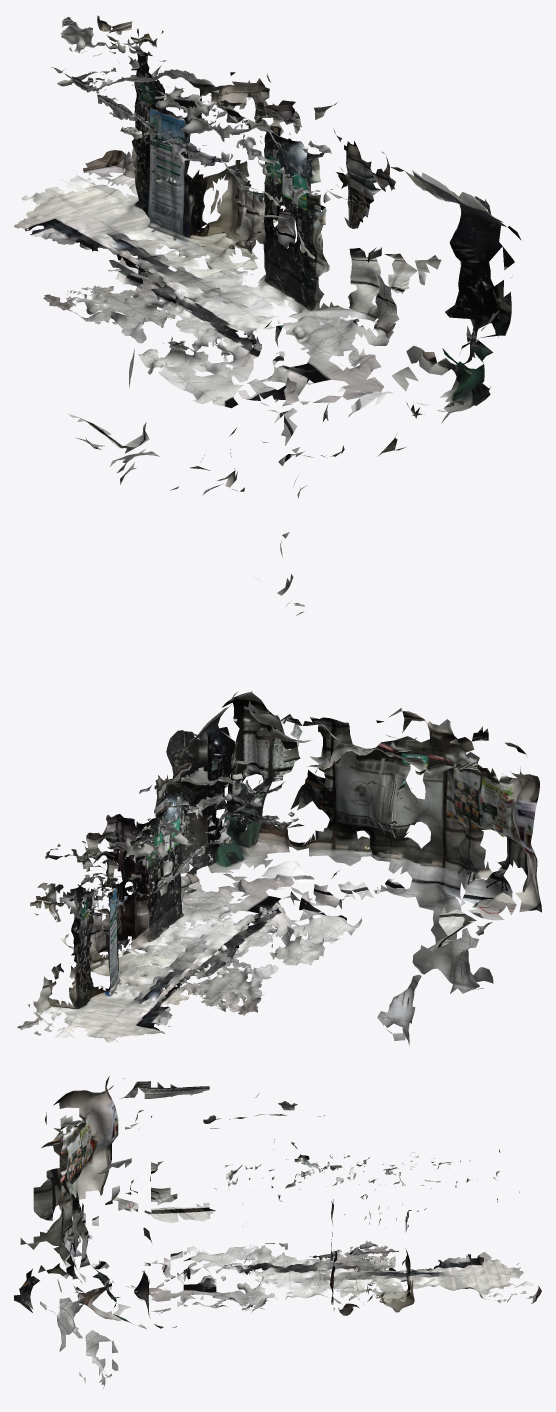
The model's file is 147427-tower1-tex.glb.
3 renders of one model, top to bottom at view 1: azimuth 30°, elevation 25°; view 2: azimuth 150°, elevation 25°; view 3: azimuth 270°, elevation 25°, orthographic. The views are drawn at different scales.
Visible parts, largest first — view 1: Node; view 2: Node; view 3: Node.
Part boxes in pixels (x1,y1,x2,y2): Node: [14, 15, 521, 615]; Node: [17, 691, 541, 1045]; Node: [14, 1076, 541, 1388].
Bounding box in the file's own units: 6.37 × 5.59 × 9.82.
12 materials, 12 textured.
